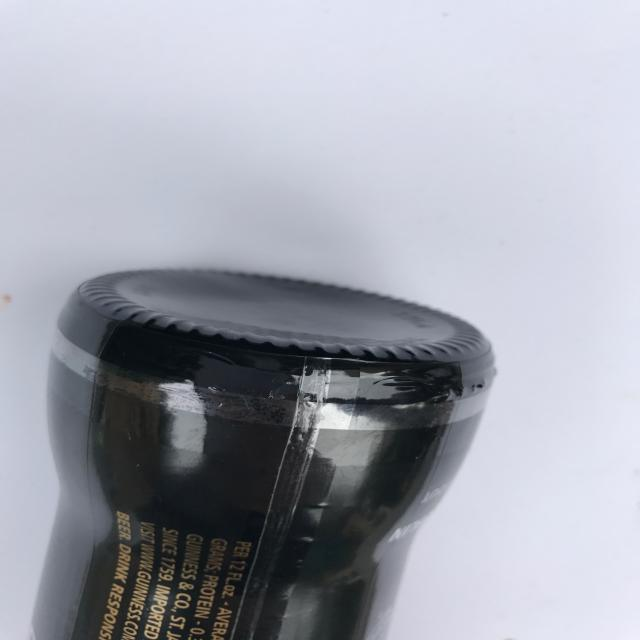glass: (36, 274, 489, 633)
